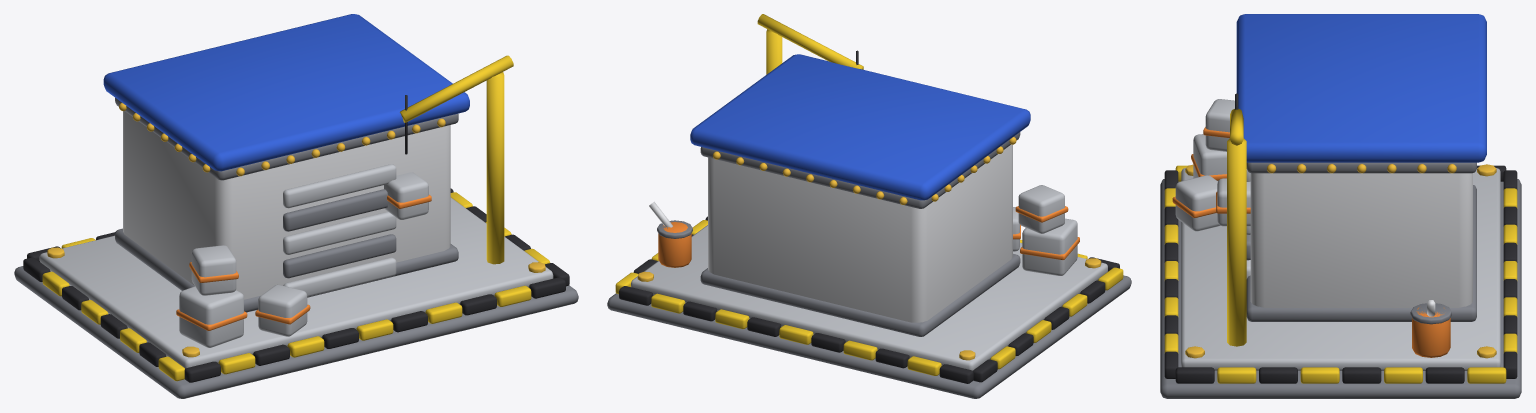
Rendered from Storehouse.glb.
The picture shows the model from 3 angles, left to right: view 1: azimuth 30°, elevation 25°; view 2: azimuth 150°, elevation 25°; view 3: azimuth 270°, elevation 25°; orthographic projection. The views are drawn at different scales.
Parts seen in each view (by area): view 1: Storehouse; view 2: Storehouse; view 3: Storehouse.
Boxes of the visible parts, x1=… form: Storehouse: x1=14, y1=14, x2=578, y2=398; Storehouse: x1=607, y1=14, x2=1131, y2=398; Storehouse: x1=1160, y1=14, x2=1521, y2=398.
Bounding box in the file's own units: 3.6 × 1.99 × 2.6.
